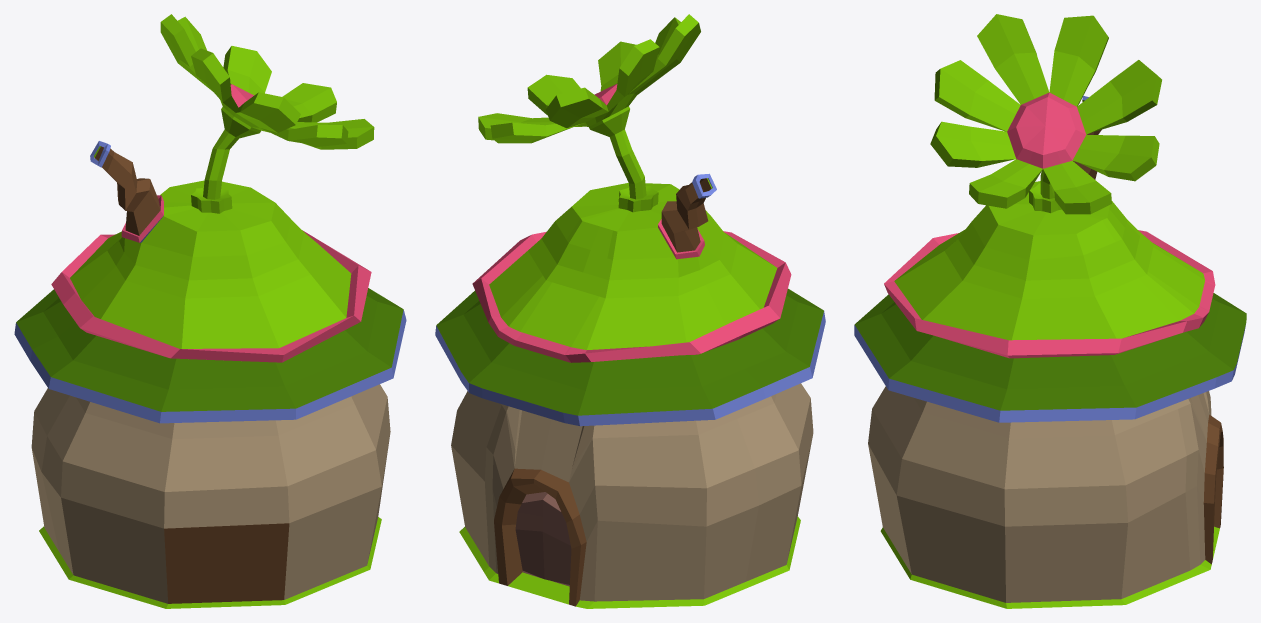
Rendered from NPCHouse_01.fbx.
3 views of the same model, side by side, from view 1: azimuth 30°, elevation 25°; view 2: azimuth 150°, elevation 25°; view 3: azimuth 270°, elevation 25° (orthographic).
Visible parts, largest first — view 1: NPCHouse1; view 2: NPCHouse1; view 3: NPCHouse1.
Boxes of the visible parts, <box> form: NPCHouse1: <box>14,14,406,608</box>; NPCHouse1: <box>435,14,825,608</box>; NPCHouse1: <box>854,14,1246,608</box>.
Size of the model in its own units: 17.02 by 24.69 by 17.14.
